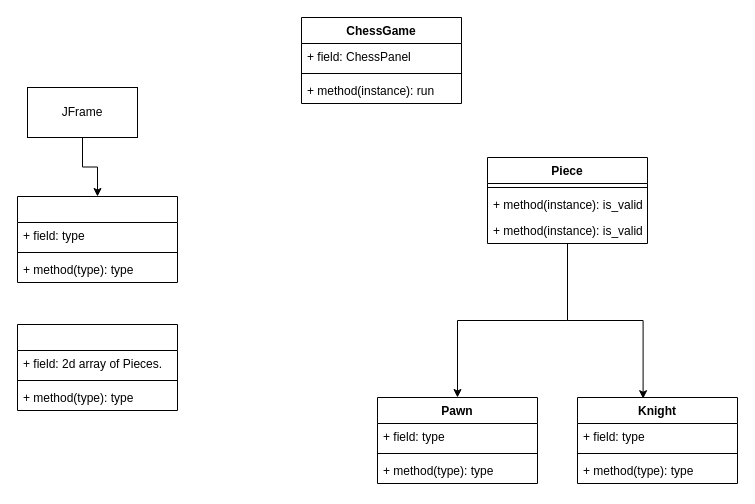
The diagram is 755 pixels wide and 504 high, and some of its shapes have lost their labels. The shapes that lost their labels are listed below. From the top down, each one's box as (x1, y1, x2, y2) in pixels, then its label:
(16, 196, 178, 282): ChessFrame
(16, 324, 178, 410): Board
